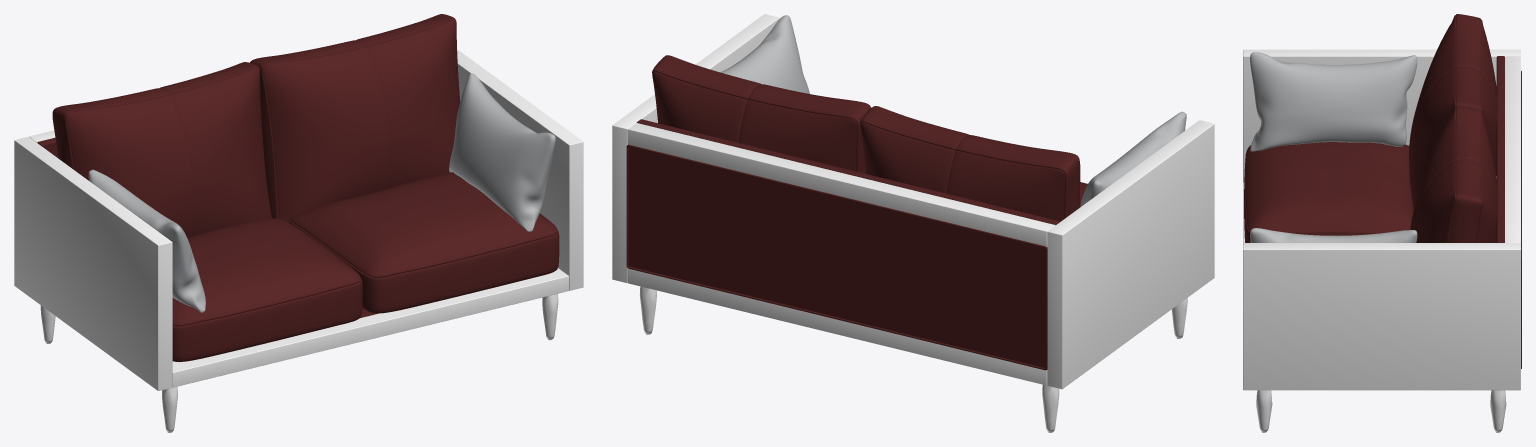
Rendered from redSofa.FBX.
The picture shows the model from 3 angles, left to right: view 1: azimuth 30°, elevation 25°; view 2: azimuth 150°, elevation 25°; view 3: azimuth 270°, elevation 25°; orthographic projection. The views are drawn at different scales.
Parts seen in each view (by area): view 1: cushion051, sofa detail038, cushion046, cushion049, cushion050, cushion047, sofa detail036, sofa detail034, cushion048, sofa pilaster026, sofa pilaster024; view 2: sofa back 026, sofa detail038, cushion046, cushion051, sofa detail035, sofa detail036, sofa detail034, cushion047, sofa back 028, cushion048, sofa back 025, sofa back 027 (+2 smaller); view 3: sofa detail034, cushion050, cushion048, cushion051, cushion046, sofa detail038, sofa detail035, cushion047, sofa back 025, sofa pilaster027, sofa pilaster026, sofa back 028 (+1 smaller).
Part boxes in pixels (x1,y1,x2,y2): cushion051: (250,14,460,222); sofa detail038: (14,136,172,390); cushion046: (52,62,271,237); cushion049: (289,172,559,313); cushion050: (172,218,362,361); cushion047: (449,73,555,231); sofa detail036: (172,268,568,387); sofa detail034: (457,49,583,290); cushion048: (88,169,205,312); sofa pilaster026: (542,294,558,340); sofa pilaster024: (162,386,177,432); sofa back 026: (628,147,1045,367); sofa detail038: (1047,120,1214,389); cushion046: (860,106,1080,221); cushion051: (652,55,871,173); sofa detail035: (627,123,1055,246); sofa detail036: (627,268,1047,385); sofa detail034: (612,14,779,282); cushion047: (720,15,809,93); sofa back 028: (626,144,1047,370); cushion048: (1080,111,1186,206); sofa back 025: (637,119,1059,224); sofa back 027: (637,122,1055,225); sofa detail034: (1243,243,1520,390); cushion050: (1244,142,1413,242); cushion048: (1250,52,1417,151); cushion051: (1410,106,1497,242); cushion046: (1408,14,1497,209); sofa detail038: (1243,49,1520,182); sofa detail035: (1505,56,1520,242); cushion047: (1250,228,1417,242); sofa back 025: (1496,56,1504,242); sofa pilaster027: (1490,390,1506,432); sofa pilaster026: (1256,390,1272,432); sofa back 028: (1521,71,1521,368).
Size of the model in its own units: 134 by 74.41 by 78.92.
